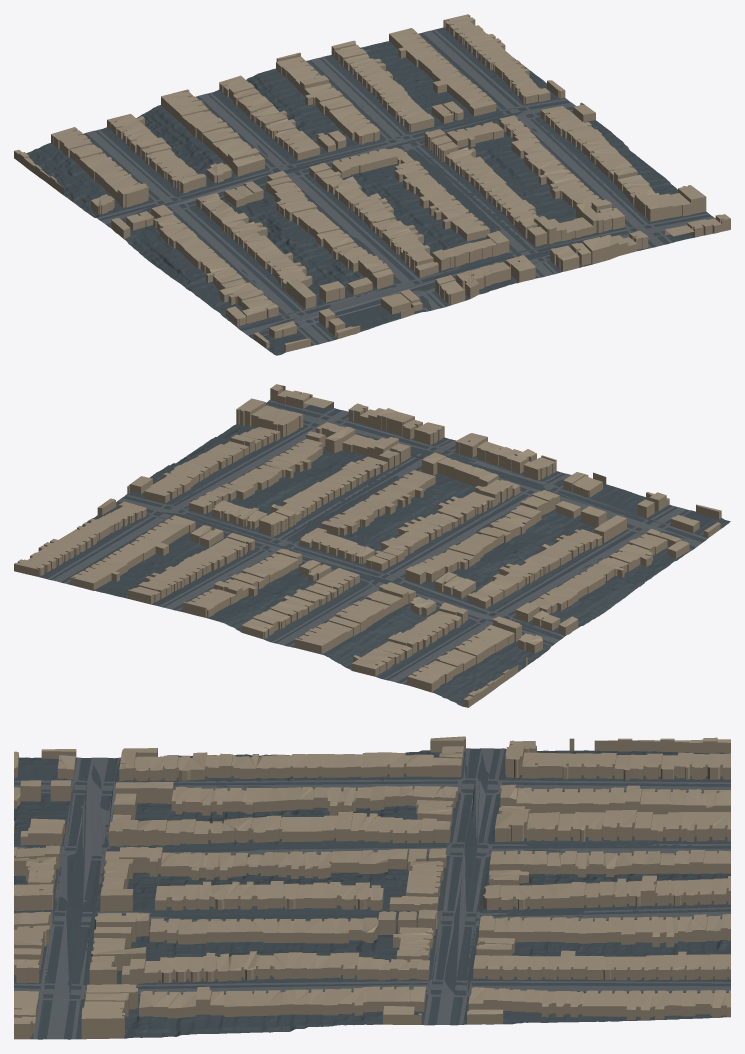
File: epsg26910-1418-10883.lod0.glb
The picture shows the model from 3 angles, top to bottom: view 1: azimuth 30°, elevation 25°; view 2: azimuth 150°, elevation 25°; view 3: azimuth 270°, elevation 25°; orthographic projection. The views are drawn at different scales.
Parts seen in each view (by area): view 1: epsg26910-1418-10883-lod0; view 2: epsg26910-1418-10883-lod0; view 3: epsg26910-1418-10883-lod0.
Part boxes in pixels (bbox=[...]): epsg26910-1418-10883-lod0: bbox=[14, 14, 730, 355]; epsg26910-1418-10883-lod0: bbox=[14, 384, 730, 707]; epsg26910-1418-10883-lod0: bbox=[14, 736, 730, 1039].
Size of the model in its own units: 384 by 34.18 by 384.
